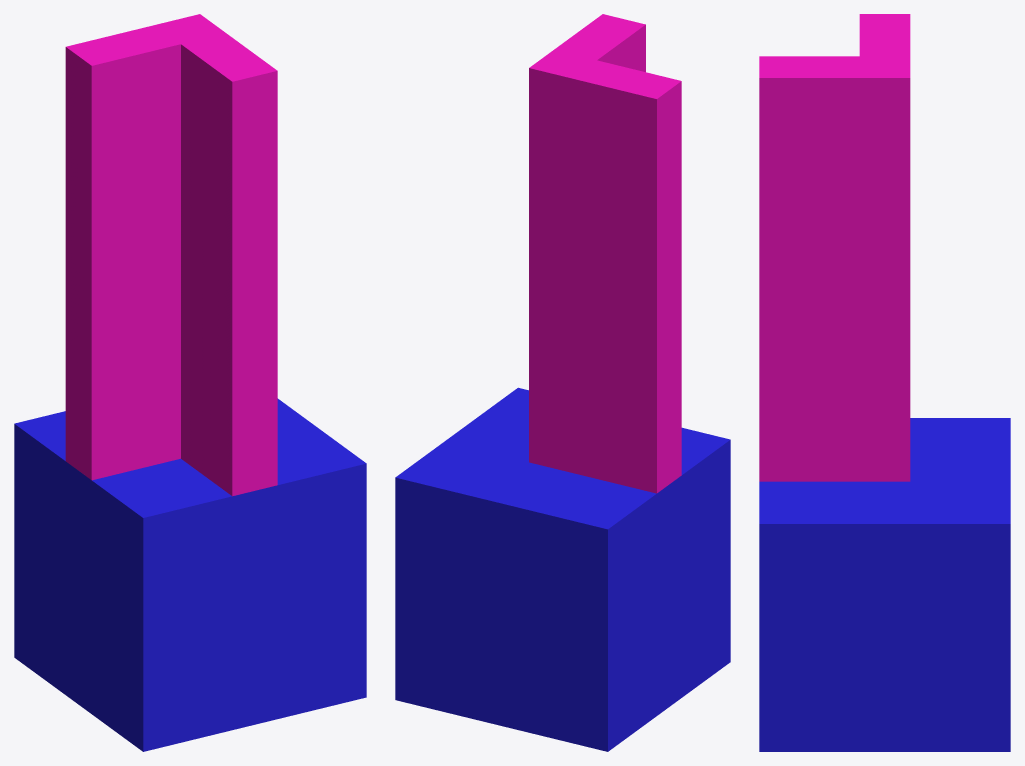
Rendered from CornerWall.fbx.
3 renders of one model, left to right at view 1: azimuth 30°, elevation 25°; view 2: azimuth 150°, elevation 25°; view 3: azimuth 270°, elevation 25°, orthographic. The views are drawn at different scales.
Visible parts, largest first — view 1: cornerwall_lowpoly, Box238; view 2: Box238, cornerwall_lowpoly; view 3: Box238, cornerwall_lowpoly.
Boxes of the visible parts, left/top/right/bottom form: cornerwall_lowpoly: left=65, top=14, right=277, bottom=496; Box238: left=14, top=398, right=366, bottom=751; Box238: left=395, top=387, right=730, bottom=751; cornerwall_lowpoly: left=529, top=14, right=681, bottom=493; Box238: left=759, top=418, right=1010, bottom=751; cornerwall_lowpoly: left=759, top=14, right=910, bottom=481.
Size of the model in its own units: 39.5 by 110 by 39.5.
